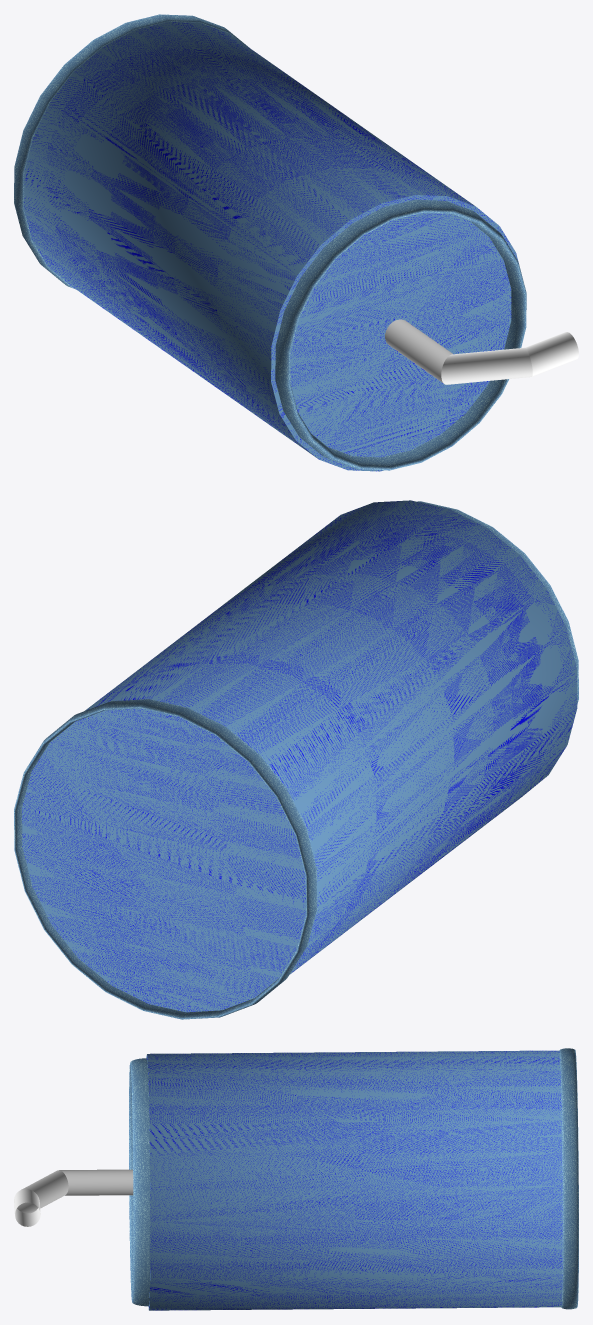
The model's file is model_align.obj.
3 renders of one model, top to bottom at view 1: azimuth 30°, elevation 25°; view 2: azimuth 150°, elevation 25°; view 3: azimuth 270°, elevation 25°, orthographic. The views are drawn at different scales.
Visible parts, largest first — view 1: mesh2_mesh2-geometry, mesh1_mesh1-geometry; view 2: mesh2_mesh2-geometry, mesh1_mesh1-geometry; view 3: mesh2_mesh2-geometry, mesh1_mesh1-geometry.
Boxes of the visible parts, x1,y1,x2,y2 form: mesh2_mesh2-geometry: (14, 14, 578, 471); mesh1_mesh1-geometry: (275, 199, 526, 470); mesh2_mesh2-geometry: (14, 500, 577, 1019); mesh1_mesh1-geometry: (417, 501, 578, 704); mesh2_mesh2-geometry: (14, 1048, 578, 1310); mesh1_mesh1-geometry: (129, 1058, 150, 1306).
Size of the model in its own units: 0.0995 by 0.0973 by 0.2119.
